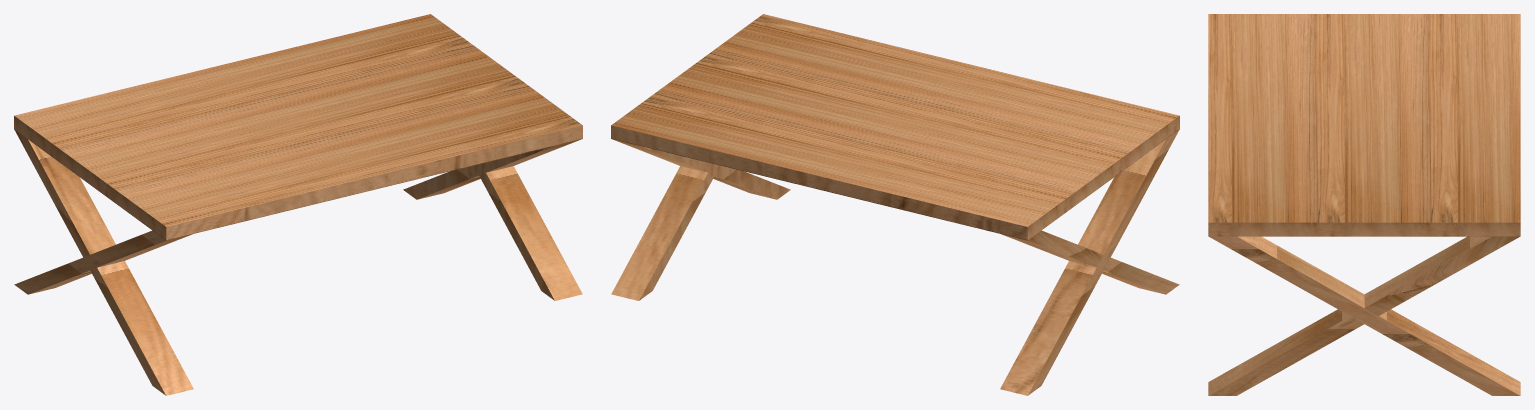
The model's file is ParkTable.fbx.
The picture shows the model from 3 angles, left to right: view 1: azimuth 30°, elevation 25°; view 2: azimuth 150°, elevation 25°; view 3: azimuth 270°, elevation 25°; orthographic projection. The views are drawn at different scales.
Parts seen in each view (by area): view 1: Cube.001; view 2: Cube.001; view 3: Cube.001.
Part boxes in pixels (x1,y1,x2,y2): Cube.001: (14,14,582,395); Cube.001: (611,14,1179,395); Cube.001: (1208,14,1520,395).
Size of the model in its own units: 695 by 269 by 439.
